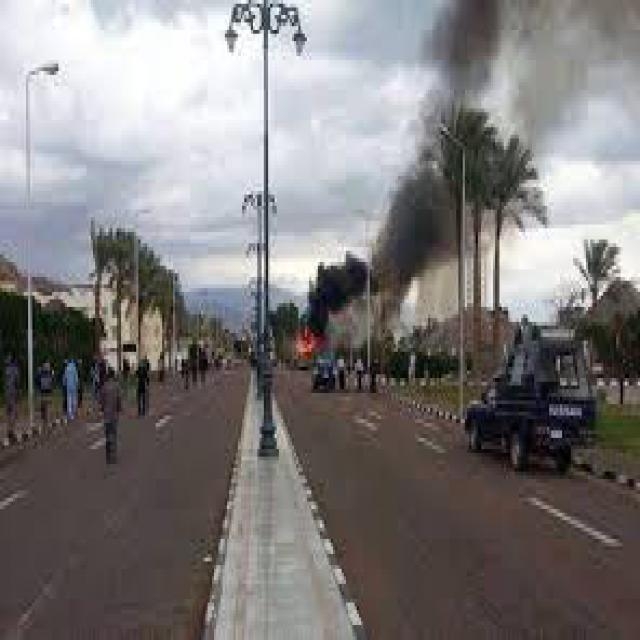smoke: (359, 4, 623, 329)
